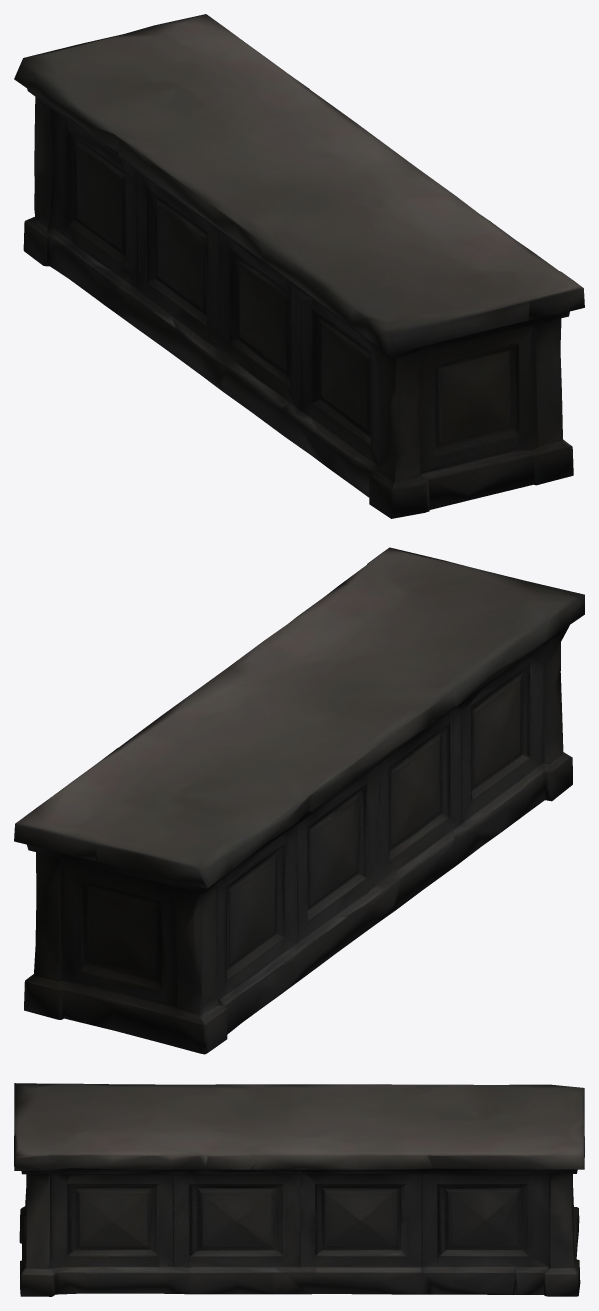
Rendered from lounge_bar_counter.glb.
3 views of the same model, one above another, from view 1: azimuth 30°, elevation 25°; view 2: azimuth 150°, elevation 25°; view 3: azimuth 270°, elevation 25° (orthographic). The views are drawn at different scales.
Visible parts, largest first — view 1: tripo_node_9b4ca65f-a05d-40bc-913d-abb8d7af1c62; view 2: tripo_node_9b4ca65f-a05d-40bc-913d-abb8d7af1c62; view 3: tripo_node_9b4ca65f-a05d-40bc-913d-abb8d7af1c62.
Boxes of the visible parts, x1,y1,x2,y2 form: tripo_node_9b4ca65f-a05d-40bc-913d-abb8d7af1c62: (14,14,584,518); tripo_node_9b4ca65f-a05d-40bc-913d-abb8d7af1c62: (14,547,584,1054); tripo_node_9b4ca65f-a05d-40bc-913d-abb8d7af1c62: (14,1083,584,1296).
Size of the model in its own units: 0.3011 by 0.2779 by 1.
Materials: 1 (1 with a texture image).
